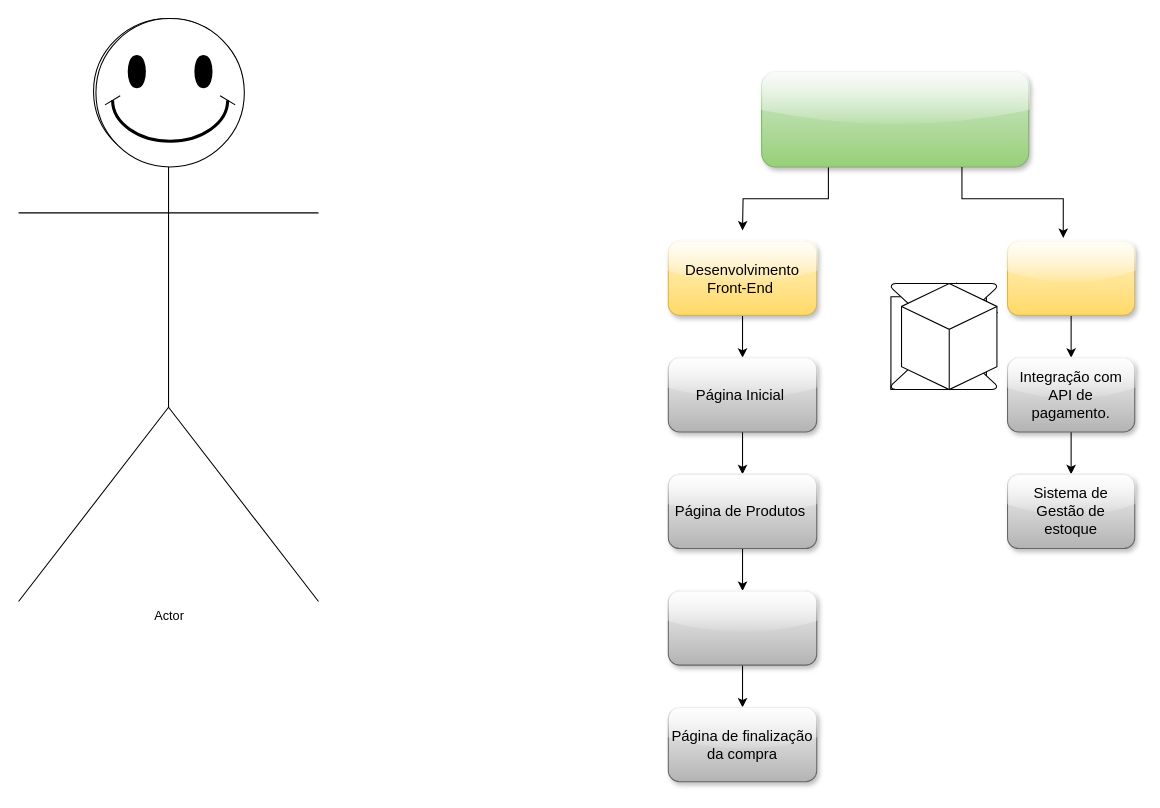
Some shapes in this 1160 by 808 pixel diagram are drawn without their labels. Each missing label, with the centre of its shape:
"Desenvolvimento Beck-End" belongs at (1071,279).
"Projeto de site de e-commerce" belongs at (895,120).
"Página de carrinho de compras" belongs at (743,629).
